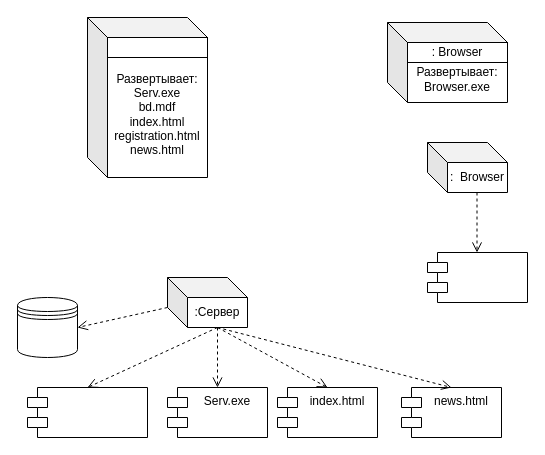
Image size: 545x455. Some labels were removed from this diagram. The centre of each missing label's shape, as x and y in pixels:
": Сервер" goes at pixel 157 47.
"bd.mdf" goes at pixel 47 327.
"Browser.exe" goes at pixel 477 277.
"registration.html" goes at pixel 87 412.
